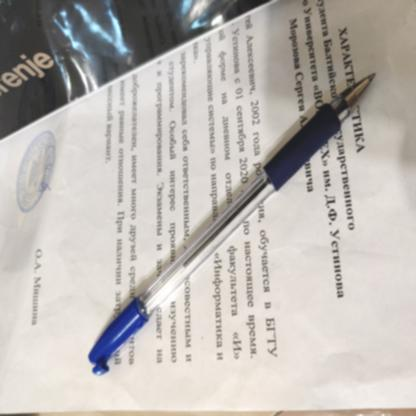Pen: (93, 56, 370, 373)
